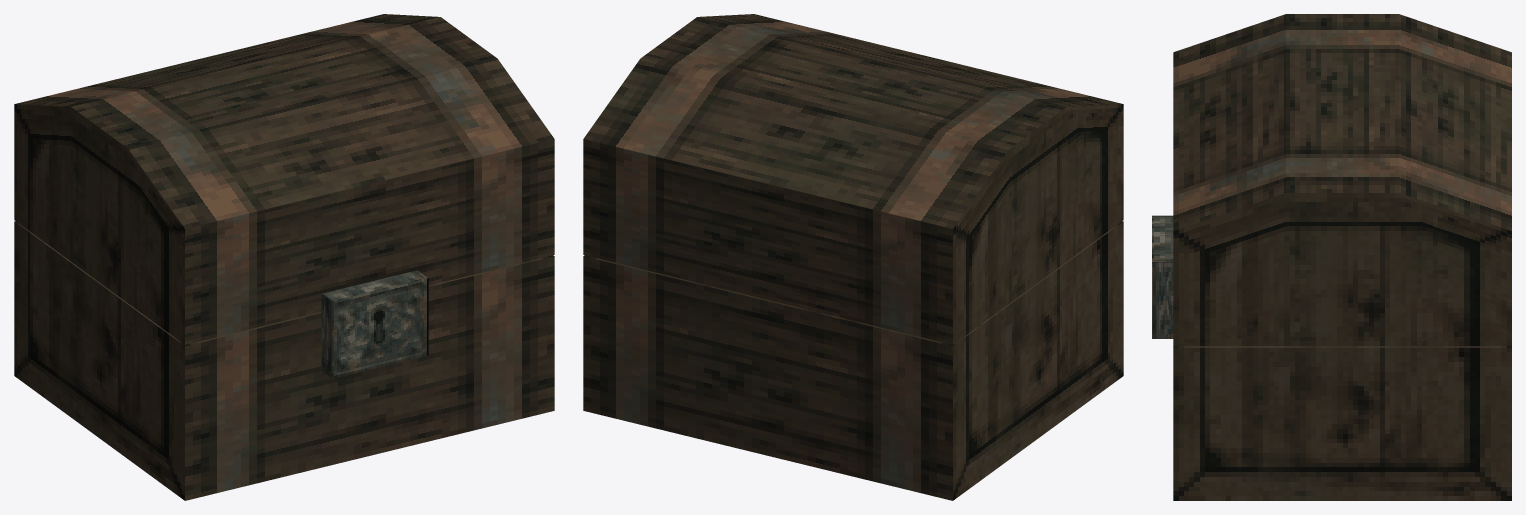
Rendered from chest.glb.
3 views of the same model, side by side, from view 1: azimuth 30°, elevation 25°; view 2: azimuth 150°, elevation 25°; view 3: azimuth 270°, elevation 25° (orthographic).
Parts seen in each view (by area): view 1: chest; view 2: chest; view 3: chest.
Part boxes in pixels (box(x1,y1,x2,y2)): chest: box(14, 14, 554, 500); chest: box(583, 14, 1123, 500); chest: box(1152, 14, 1511, 500).
Size of the model in its own units: 2 by 1.61 by 1.7.
Materials: 1 (1 with a texture image).
